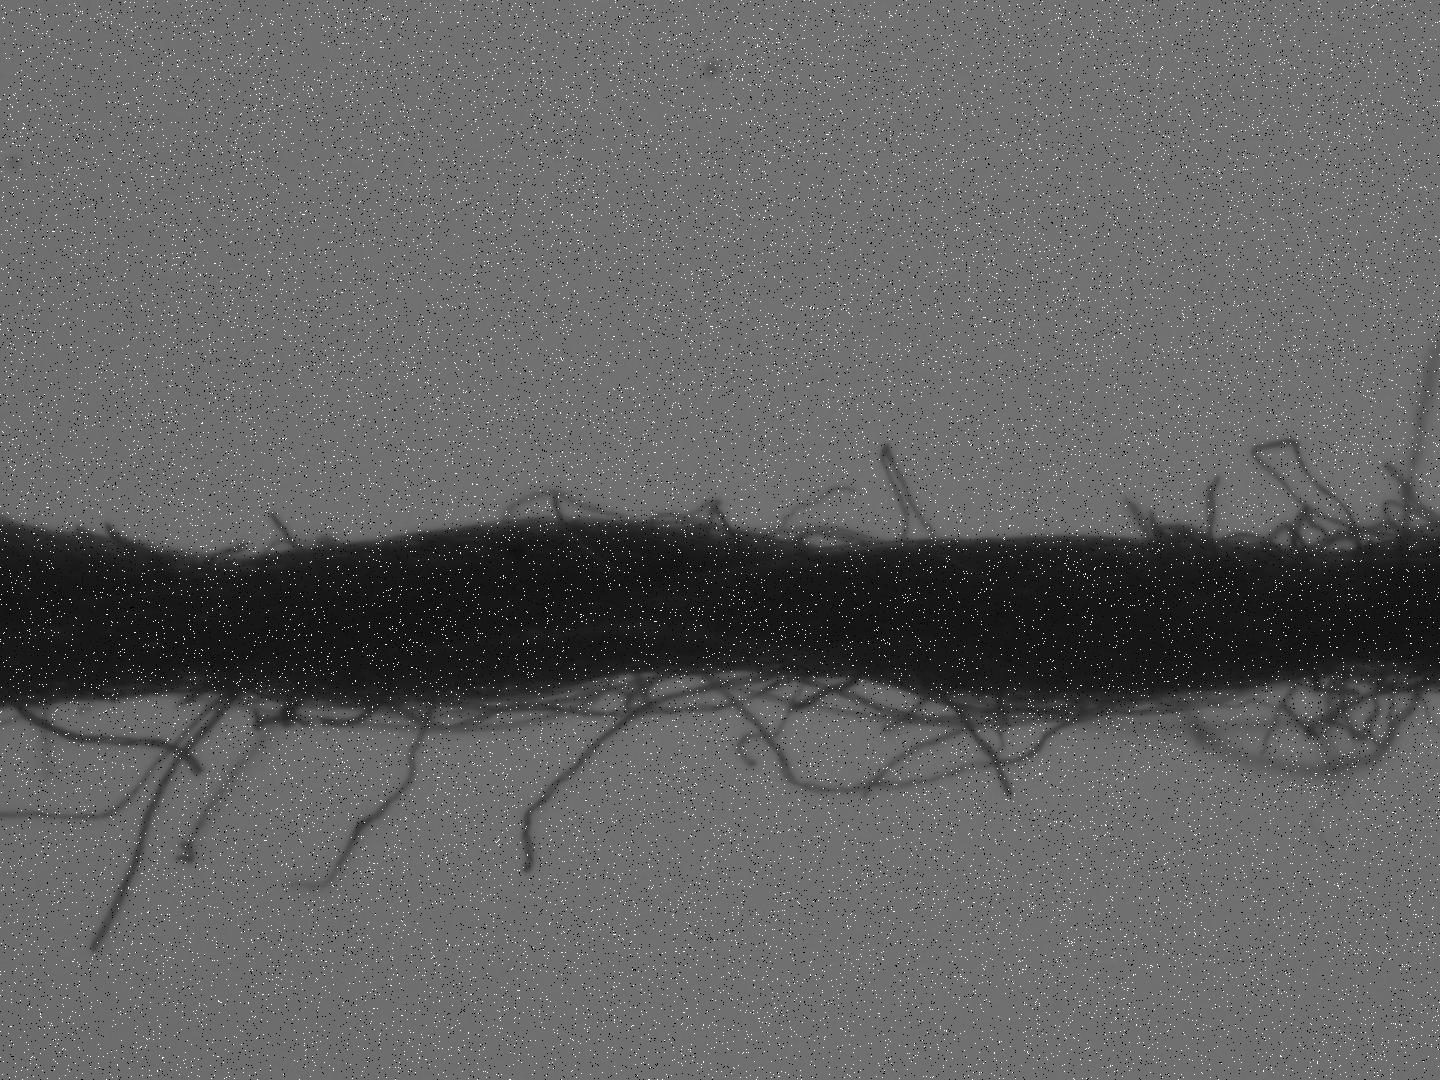loop_fiber: (704, 673, 1104, 798), (1161, 678, 1433, 782), (430, 669, 811, 723), (897, 685, 1253, 724), (874, 439, 950, 549), (498, 486, 641, 530), (647, 496, 756, 552), (1304, 518, 1430, 559), (1339, 675, 1397, 752)
protruding_fiber: (85, 686, 246, 960), (289, 706, 435, 893), (263, 511, 306, 556)
